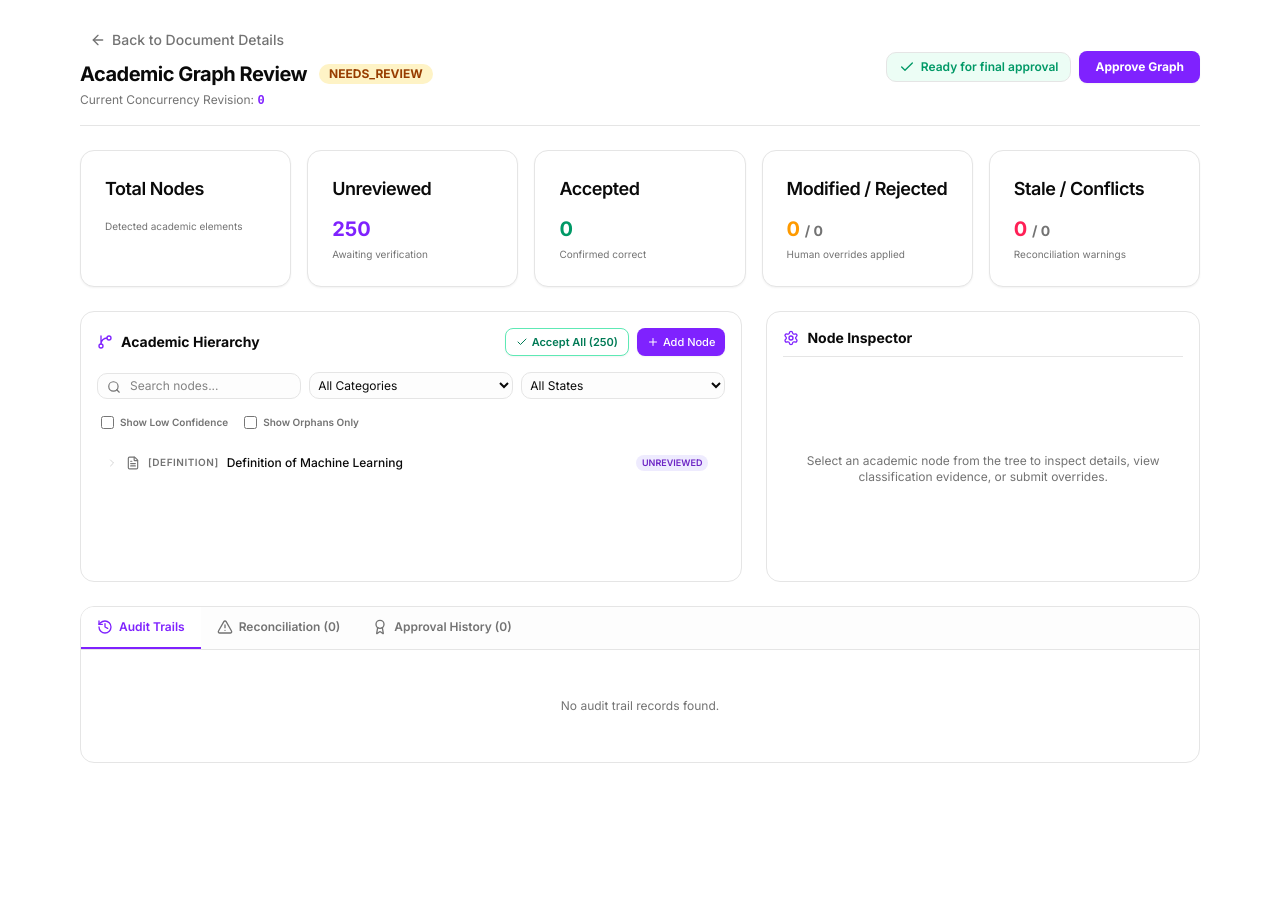
Scenario: AcademicReviewPage › renders Proceed to Slide Generation button upon successful graph approval
Click the button "Approve Graph" at (1140, 66), box [1080,50,1200,82]
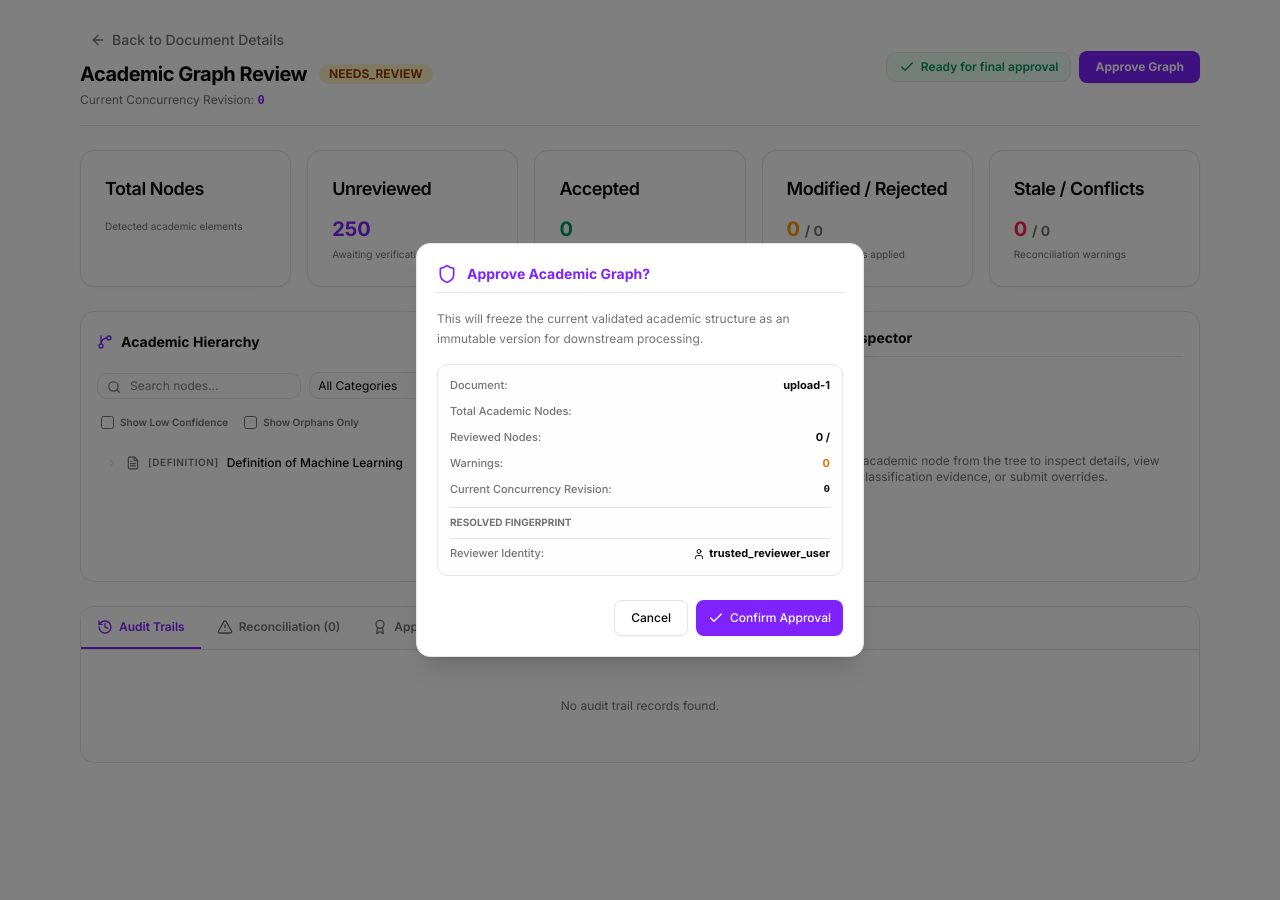
Note: Confirm dialog opens
Click the button "Confirm Approval" at (770, 618), box [696,600,843,636]
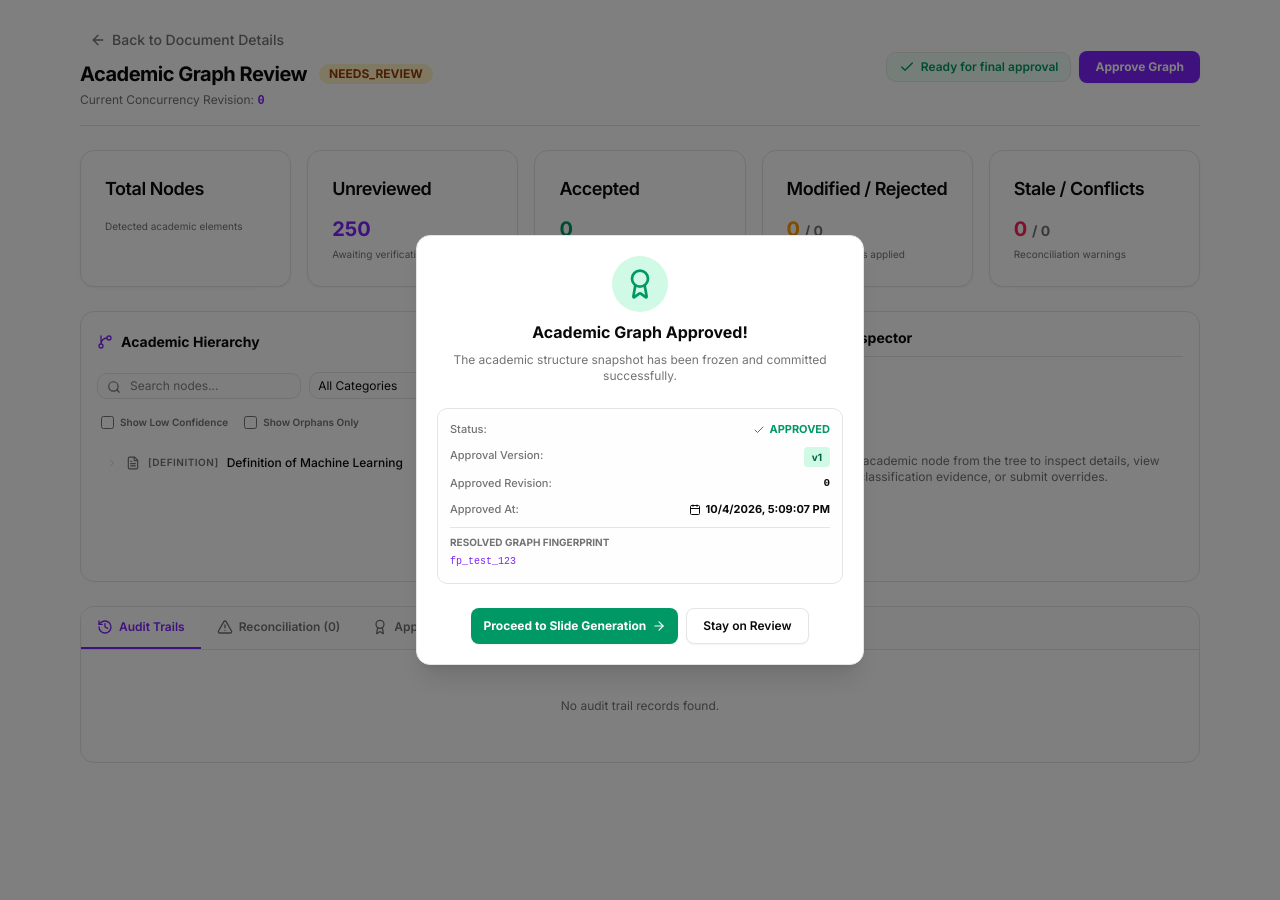
Check: the button with test id "proceed-to-slides-button" is shown, box [471,608,678,644]
